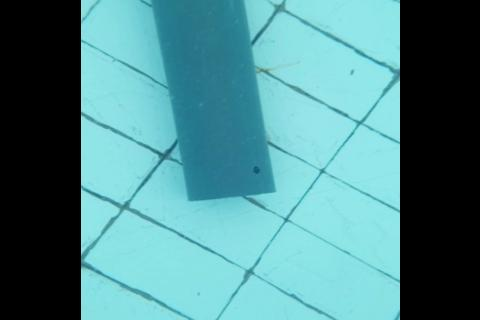kebocoran: (251, 166, 259, 174)
